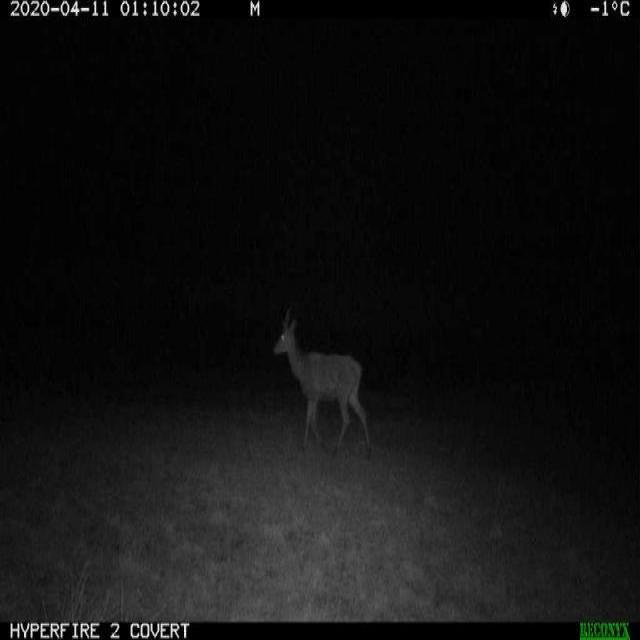deer: (258, 300, 379, 473)
